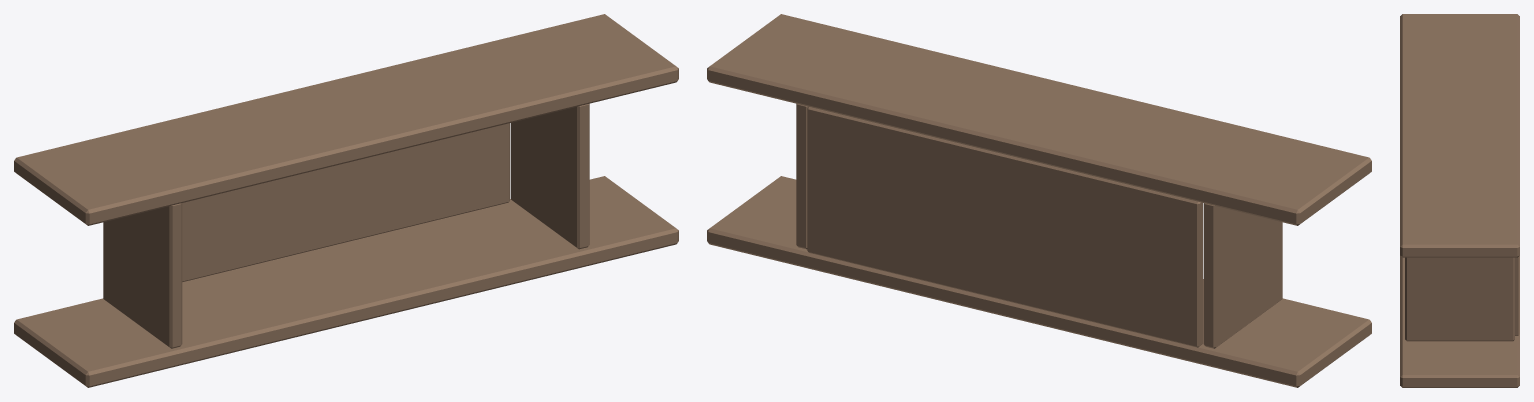
File: dorm-wall-shelf.glb
The picture shows the model from 3 angles, left to right: view 1: azimuth 30°, elevation 25°; view 2: azimuth 150°, elevation 25°; view 3: azimuth 270°, elevation 25°; orthographic projection. The views are drawn at different scales.
Visible parts, largest first — view 1: dorm-wall-shelf; view 2: dorm-wall-shelf; view 3: dorm-wall-shelf.
Part boxes in pixels (box(x1,y1,x2,y2)): dorm-wall-shelf: box(14, 14, 678, 387); dorm-wall-shelf: box(707, 14, 1371, 387); dorm-wall-shelf: box(1400, 14, 1519, 387).
Size of the model in its own units: 1.15 by 0.33 by 0.25.
